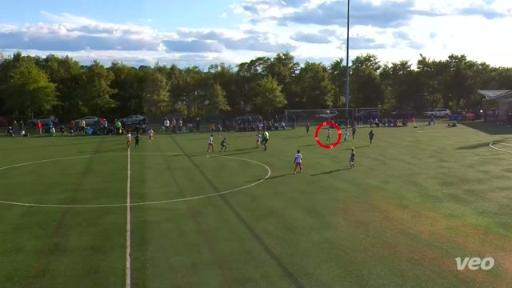highlight_overlay: (315, 120, 342, 149)
